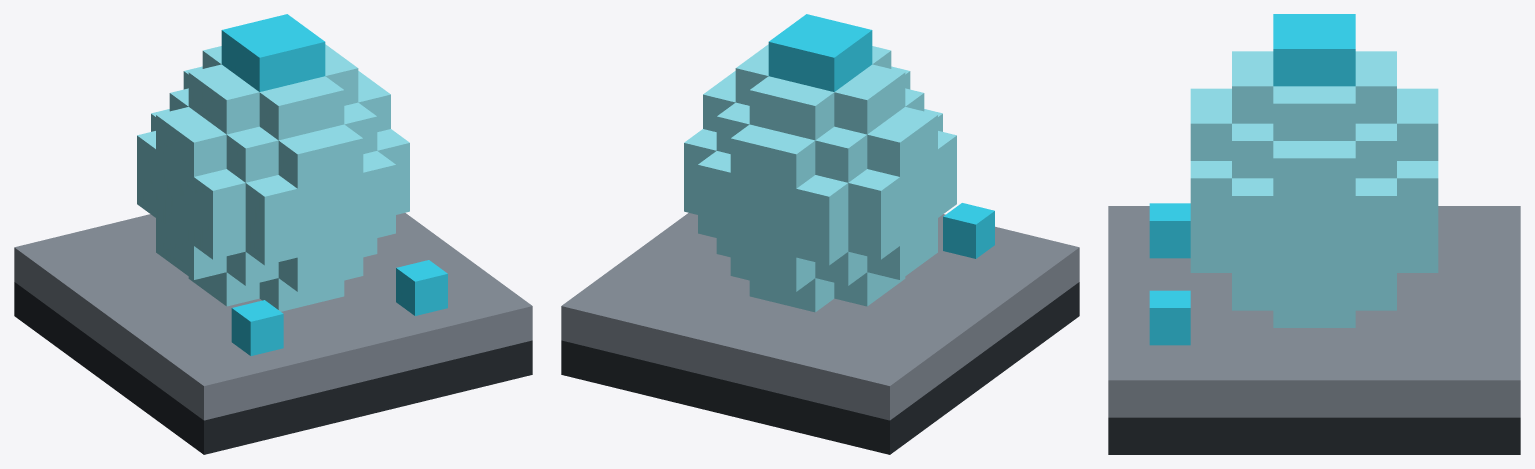
File: fx_shield.glb
3 views of the same model, side by side, from view 1: azimuth 30°, elevation 25°; view 2: azimuth 150°, elevation 25°; view 3: azimuth 270°, elevation 25° (orthographic). The views are drawn at different scales.
Visible parts, largest first — view 1: Ring mesh, Dome mesh, Peak mesh, Glow mesh; view 2: Ring mesh, Dome mesh, Peak mesh, Glow mesh; view 3: Ring mesh, Dome mesh, Peak mesh, Glow mesh.
Part boxes in pixels (x1,y1,x2,y2): Ring mesh: [14, 213, 532, 454]; Dome mesh: [137, 44, 409, 311]; Peak mesh: [221, 14, 325, 91]; Glow mesh: [231, 260, 447, 355]; Ring mesh: [561, 213, 1079, 454]; Dome mesh: [684, 44, 956, 312]; Peak mesh: [768, 14, 872, 91]; Glow mesh: [943, 203, 994, 258]; Ring mesh: [1108, 206, 1520, 454]; Dome mesh: [1190, 51, 1438, 327]; Peak mesh: [1273, 14, 1355, 86]; Glow mesh: [1149, 203, 1190, 345].
Bounding box in the file's own units: 10 × 9 × 10.
1 material, 1 textured.
